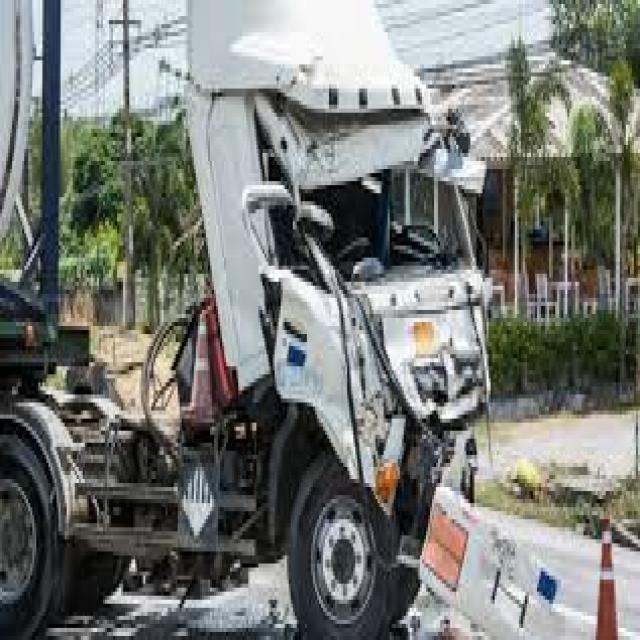accident: (196, 12, 594, 638)
